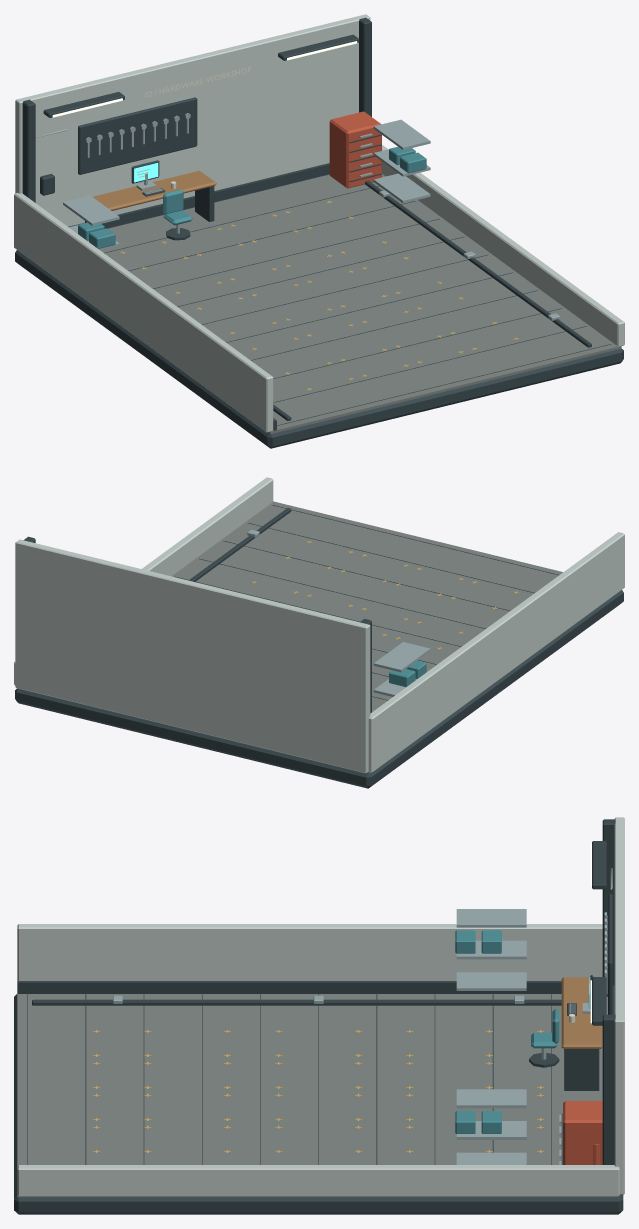
File: workshop.glb
3 renders of one model, top to bottom at view 1: azimuth 30°, elevation 25°; view 2: azimuth 150°, elevation 25°; view 3: azimuth 270°, elevation 25°, orthographic. The views are drawn at different scales.
Visible parts, largest first — view 1: 01 / mineral floor, 02 / painted plaster, 03 / charcoal steel, 04 / brushed alloy, 09 / vermilion, 08 / glass, 05 / warm oak, 11 / safety paint; view 2: 02 / painted plaster, 01 / mineral floor, 03 / charcoal steel, 04 / brushed alloy, 08 / glass; view 3: 01 / mineral floor, 02 / painted plaster, 03 / charcoal steel, 04 / brushed alloy, 08 / glass, 09 / vermilion, 05 / warm oak, 11 / safety paint.
Boxes of the visible parts, x1,y1,x2,y2 form: 01 / mineral floor: (101, 174, 621, 434); 02 / painted plaster: (14, 14, 624, 432); 03 / charcoal steel: (15, 17, 623, 448); 04 / brushed alloy: (35, 113, 560, 320); 09 / vermilion: (329, 111, 381, 188); 08 / glass: (78, 146, 426, 248); 05 / warm oak: (92, 170, 216, 210); 11 / safety paint: (120, 201, 518, 390); 02 / painted plaster: (14, 477, 624, 773); 01 / mineral floor: (20, 501, 562, 774); 03 / charcoal steel: (15, 505, 623, 788); 04 / brushed alloy: (247, 529, 430, 696); 08 / glass: (389, 661, 426, 686); 01 / mineral floor: (17, 994, 619, 1197); 02 / painted plaster: (17, 817, 624, 1196); 03 / charcoal steel: (14, 819, 623, 1214); 04 / brushed alloy: (113, 868, 612, 1164); 08 / glass: (455, 930, 559, 1133); 09 / vermilion: (563, 1101, 602, 1164); 05 / warm oak: (561, 977, 602, 1048); 11 / safety paint: (93, 1030, 543, 1152).
Size of the model in its own units: 8.48 by 3.68 by 10.5.
